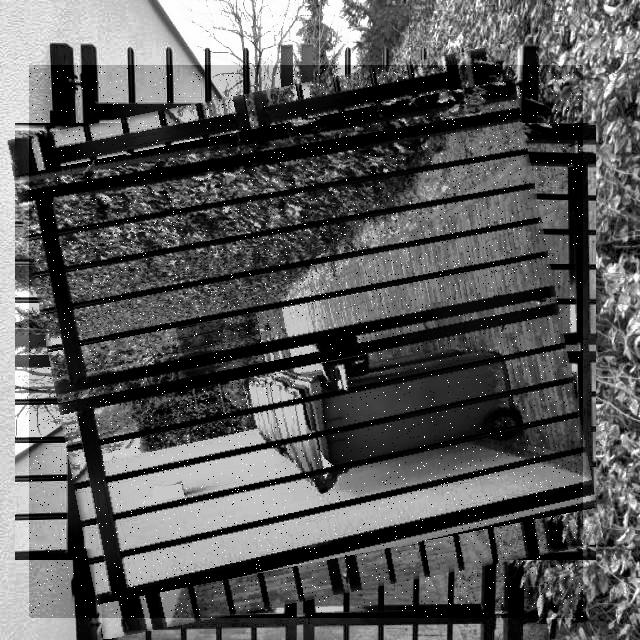fences: (29, 65, 583, 618)
